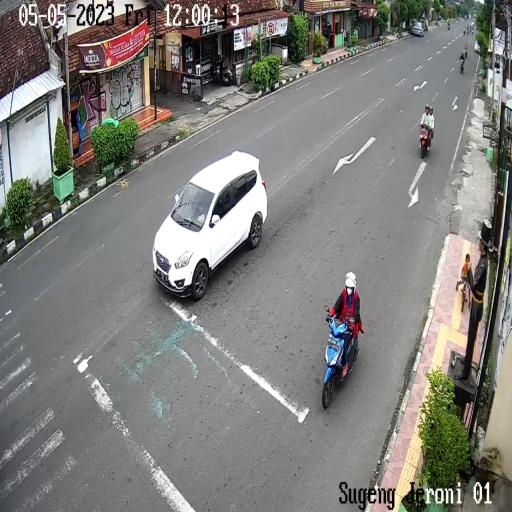mobil: (149, 144, 270, 302)
motor: (316, 296, 370, 418), (419, 121, 435, 160)
